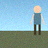person: (30, 6, 44, 35)
